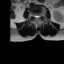CCS_normal: (36, 13, 38, 21)
LFS_normal: (39, 12, 41, 18)
LLS_normal: (38, 13, 39, 20)
RFS_normal: (32, 12, 34, 18)
RLS_normal: (34, 13, 36, 19)
